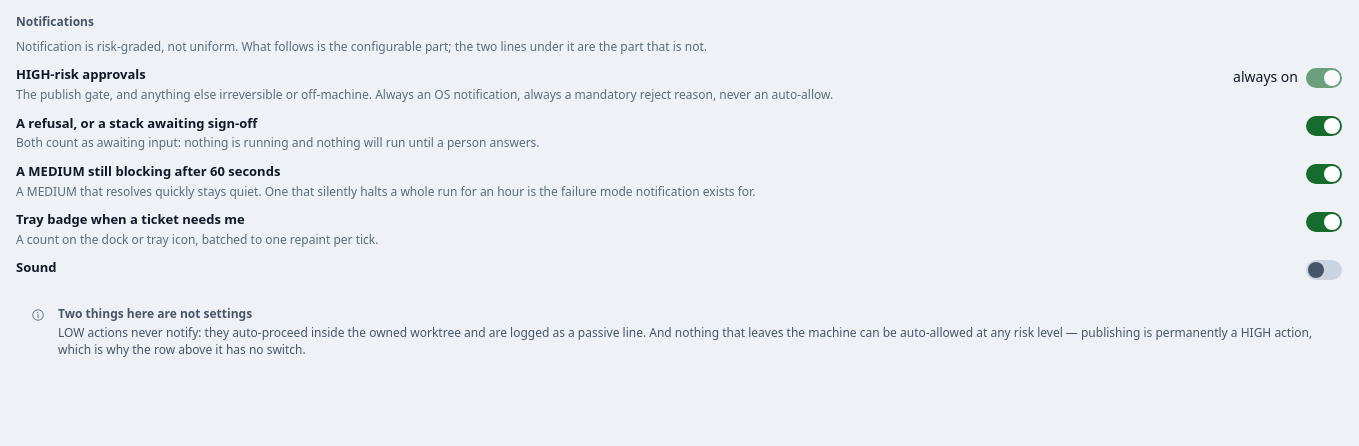
Test: NotificationsPanel › reverts the toggle and reports the failure when a save is refused
Click the switch named "Sound" at [1324, 270], box [1306,260,1342,280]
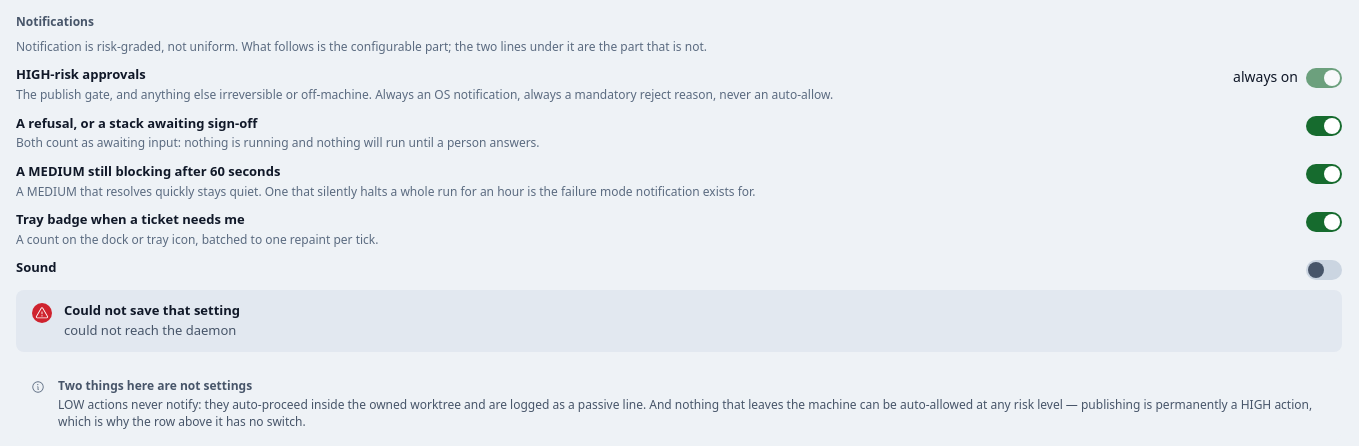
Result: the text "Could not save that setting" is shown at [64,301,240,319]
Result: the text "could not reach the daemon" is shown at [64,321,236,339]
